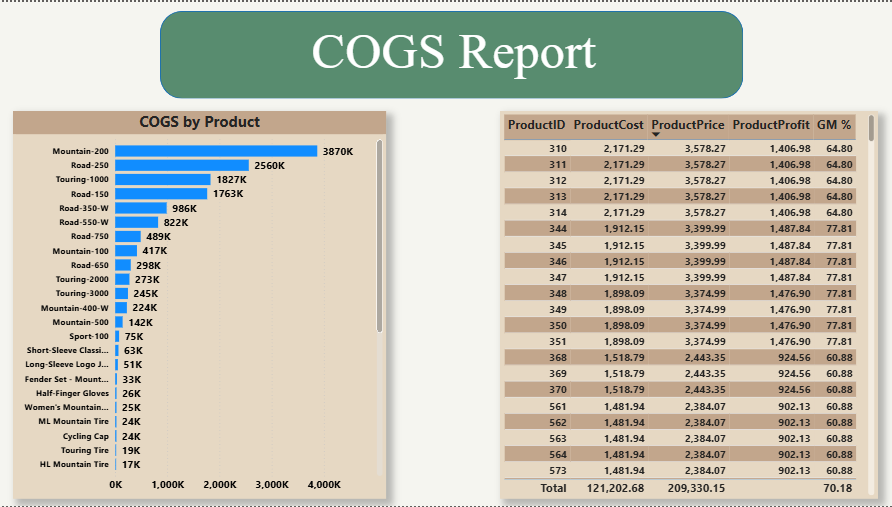

Layout of this report page (visuals, bound fields, positions):
{"tool":"powerbi","page":{"name":"Products(1)","canvas":[1280,720],"ordinal":10},"visuals":[{"type":"shape","box":[232.4,12.5,833.1,125.1],"z":0,"group":"g1"},{"type":"barChart","title":"COGS by Product","fields":{"Category":["ProductsDetails.ModelName"],"Y":["AllMeasures.COGS"]},"box":[22.9,155.7,532.9,554.3],"z":0},{"type":"textbox","box":[305.1,24.6,693.3,101.8],"z":1000,"group":"g1"},{"type":"tableEx","fields":{"Values":["ProductsDetails.ProductID","Sum(ProductsDetails.ProductCost)","Sum(ProductsDetails.ProductPrice)","ProductsDetails.ProductProfit","AllMeasures.GM %"]},"box":[718.6,155.7,540,554.3],"z":1000},{"type":"group","id":"g1","title":"Group 1","box":[232.4,12.5,833.1,125.1],"z":1001}]}

Visuals, with their boxes in screenshot pixels (x1, y1, x2, y2), scaled from the page's 1280x720 canvas onto the 892x507 screenshot:
shape: [162,9,743,97]
"COGS by Product" barChart: [16,110,387,500]
textbox: [213,17,696,89]
tableEx - ProductsDetails.ProductID x Sum(ProductsDetails.ProductCost): [501,110,877,500]
"Group 1" group: [162,9,743,97]
